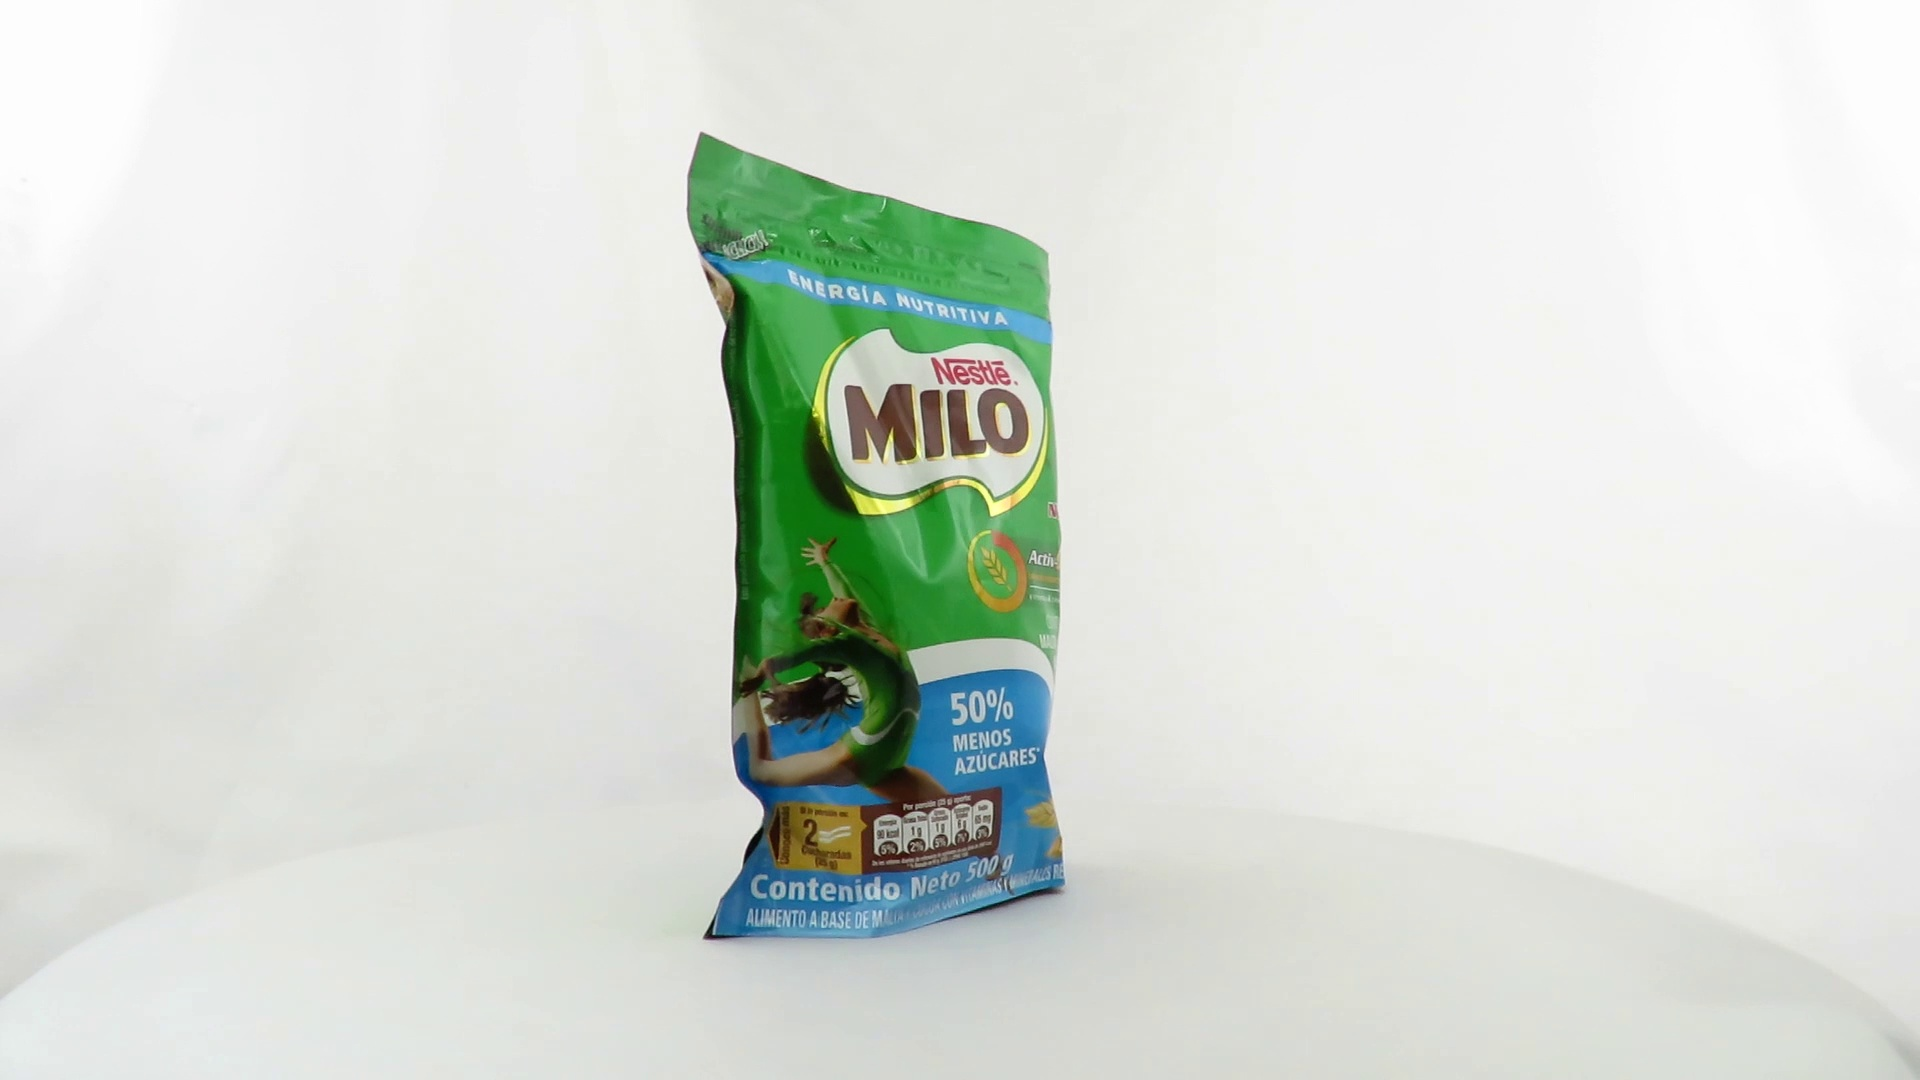COL0170205DYP50000: (680, 127, 1071, 945)
